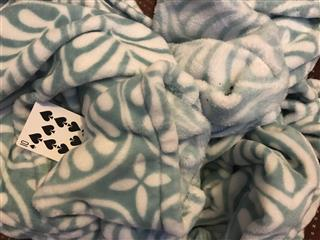TenOfSpades: (15, 101, 85, 161)
